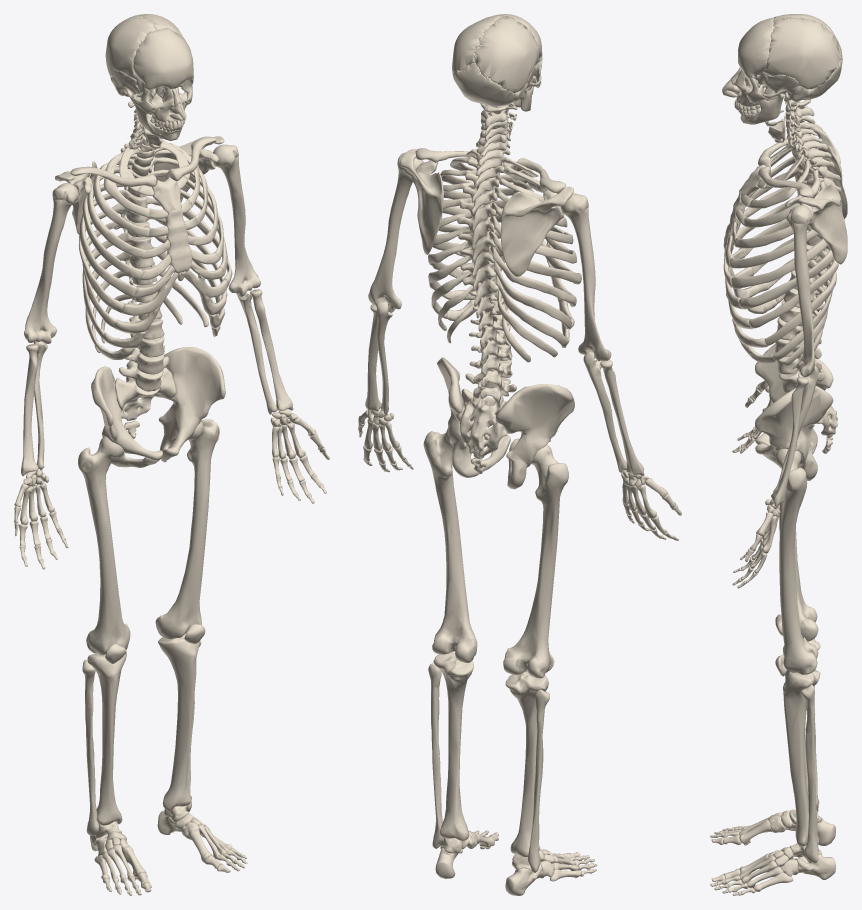
Rendered from z-anatomy-skeleton-v1.glb.
3 renders of one model, left to right at view 1: azimuth 30°, elevation 25°; view 2: azimuth 150°, elevation 25°; view 3: azimuth 270°, elevation 25°, orthographic. The views are drawn at different scales.
Visible parts, largest first — view 1: ZAnatomy_Bones; view 2: ZAnatomy_Bones; view 3: ZAnatomy_Bones.
Boxes of the visible parts, box(x1,y1,x2,y2) form: ZAnatomy_Bones: box(14, 14, 329, 895); ZAnatomy_Bones: box(358, 14, 681, 895); ZAnatomy_Bones: box(710, 14, 847, 895).
Size of the model in its own units: 0.6695 by 1.7 by 0.2501.
